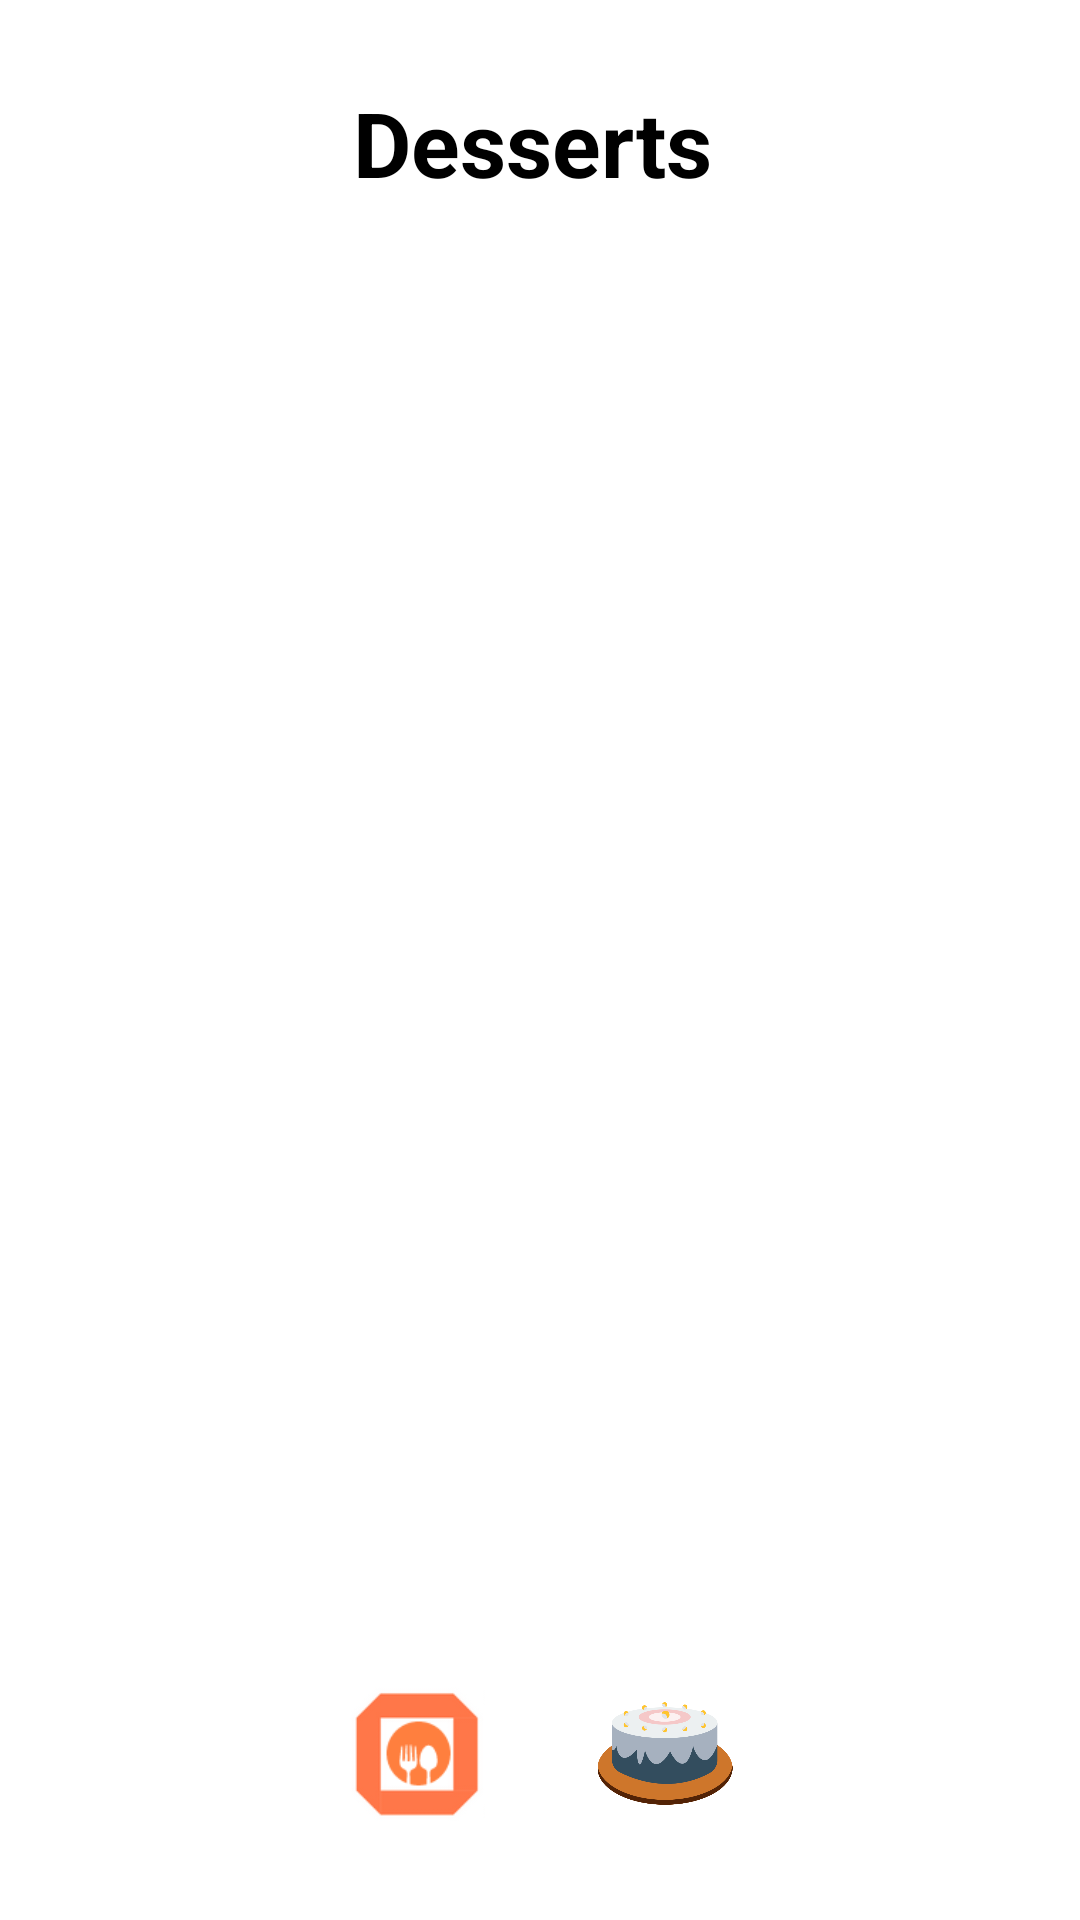

Locate icon controls on the screen. Image size 1080px x 1920px, boxes as (x1, y1, x2, y2).
dessert: (598, 1702, 733, 1805)
